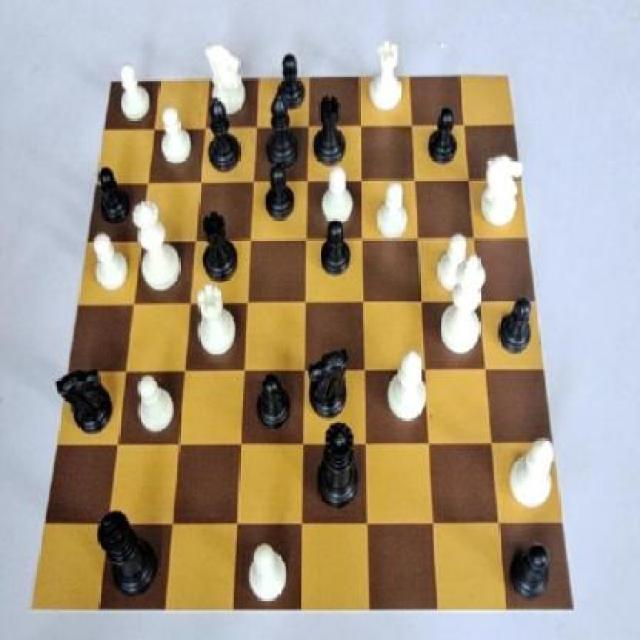bishop: (199, 91, 253, 181), (260, 84, 304, 174)
black-bishop: (92, 506, 164, 604)
black-king: (48, 360, 119, 441), (302, 343, 359, 422)
black-knight: (512, 526, 560, 606), (312, 212, 357, 286), (89, 160, 137, 226), (252, 368, 296, 437), (271, 48, 314, 112), (496, 288, 534, 360), (258, 163, 300, 225), (426, 105, 462, 172)
black-pawn: (310, 414, 368, 516)
black-queen: (196, 202, 244, 286), (309, 86, 354, 170)
black-rook: (502, 429, 558, 514), (383, 345, 433, 427)
white-bishop: (434, 240, 495, 356)
white-king: (200, 44, 255, 120)
white-knight: (243, 535, 297, 604), (130, 366, 178, 442), (108, 58, 157, 125), (434, 222, 474, 298), (372, 177, 413, 246), (88, 231, 132, 293), (317, 163, 358, 227), (158, 104, 197, 168)
white-pawn: (131, 195, 193, 301)
white-queen: (192, 278, 242, 366), (365, 32, 412, 116)
